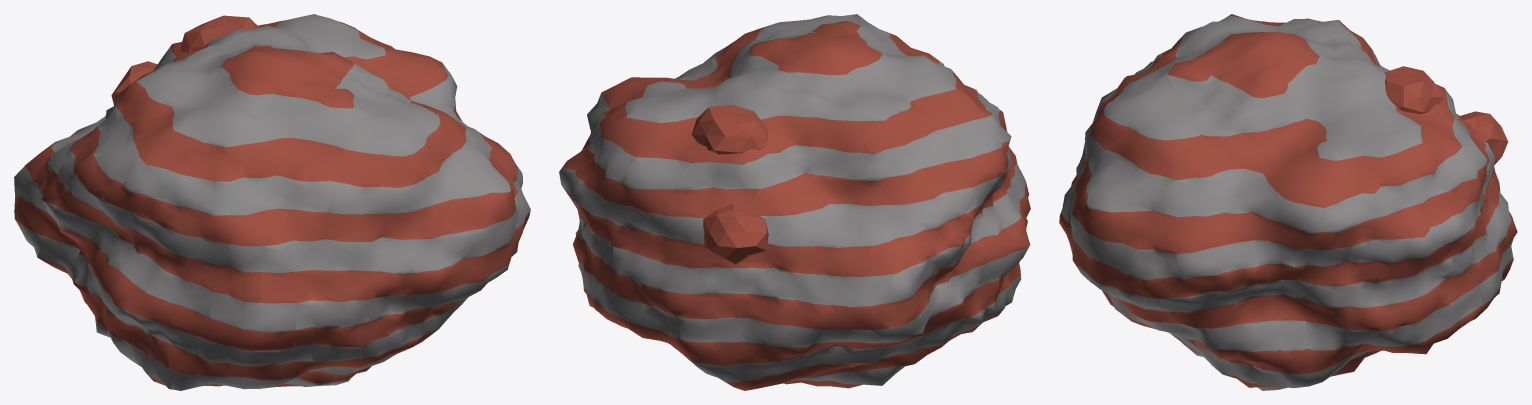
Rendered from banded_iron_surface.glb.
3 renders of one model, left to right at view 1: azimuth 30°, elevation 25°; view 2: azimuth 150°, elevation 25°; view 3: azimuth 270°, elevation 25°, orthographic. The views are drawn at different scales.
Parts seen in each view (by area): view 1: banded_iron_surface; view 2: banded_iron_surface; view 3: banded_iron_surface.
Boxes of the visible parts, x1,y1,x2,y2 form: banded_iron_surface: (14, 14, 530, 390); banded_iron_surface: (559, 14, 1030, 390); banded_iron_surface: (1059, 14, 1517, 390).
Bounding box in the file's own units: 1.22 × 0.9869 × 1.27.
